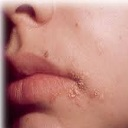Bacterial Infection: (68, 72, 89, 99)
